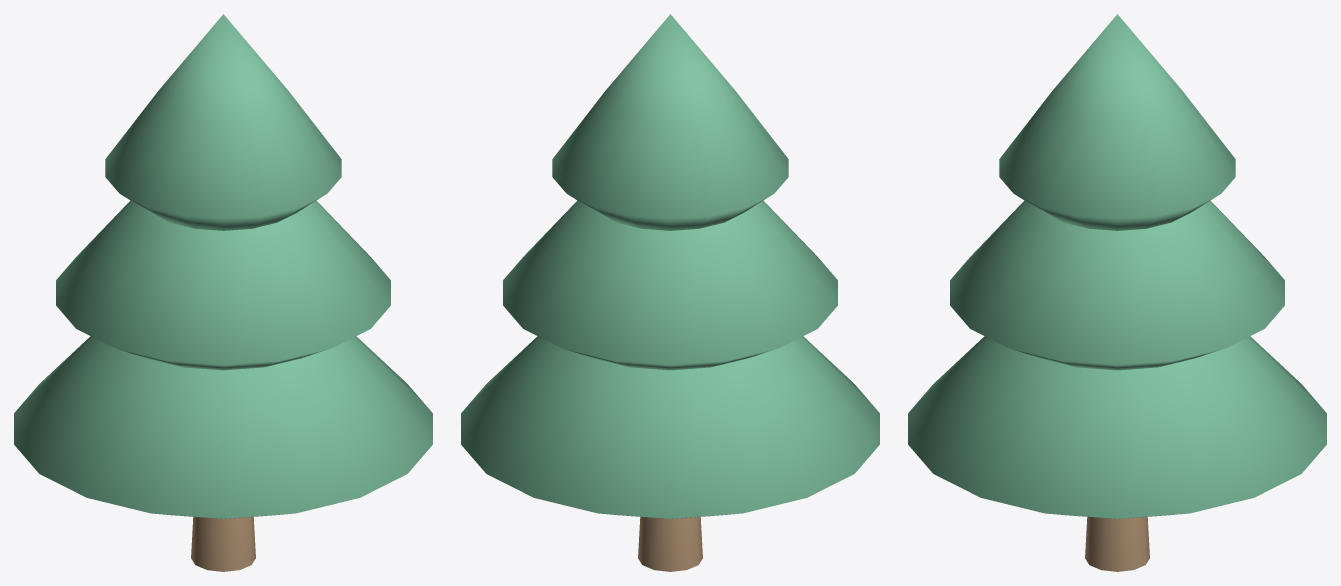
The model's file is pine.glb.
3 views of the same model, side by side, from view 1: azimuth 30°, elevation 25°; view 2: azimuth 150°, elevation 25°; view 3: azimuth 270°, elevation 25° (orthographic).
Visible parts, largest first — view 1: Skin; view 2: Skin; view 3: Skin.
Part boxes in pixels (x1,y1,x2,y2): Skin: (14, 14, 432, 571); Skin: (461, 14, 879, 571); Skin: (908, 14, 1326, 571).
Size of the model in its own units: 1.7 by 2.4 by 1.67.
